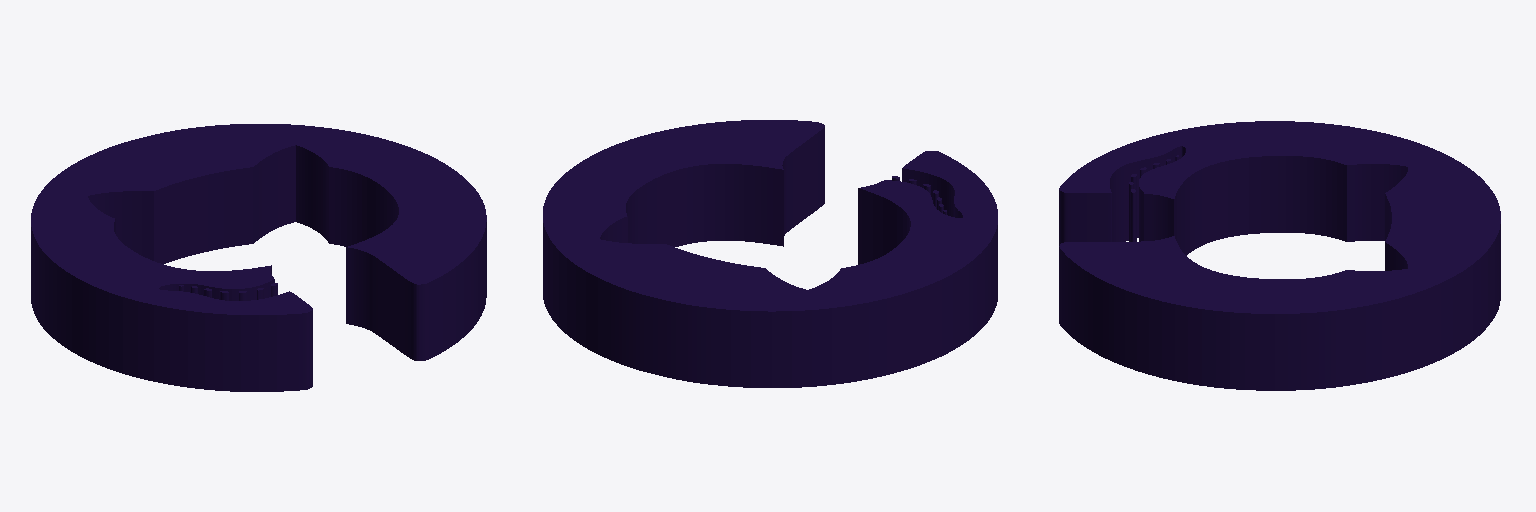
Rendered from GitHub.obj.
3 renders of one model, left to right at view 1: azimuth 30°, elevation 25°; view 2: azimuth 150°, elevation 25°; view 3: azimuth 270°, elevation 25°, orthographic.
Visible parts, largest first — view 1: path119_path119.002; view 2: path119_path119.002; view 3: path119_path119.002.
Boxes of the visible parts, <box> form: path119_path119.002: <box>31,124,486,391</box>; path119_path119.002: <box>543,120,997,387</box>; path119_path119.002: <box>1059,121,1500,390</box>.
Size of the model in its own units: 11.63 by 2.16 by 11.25.